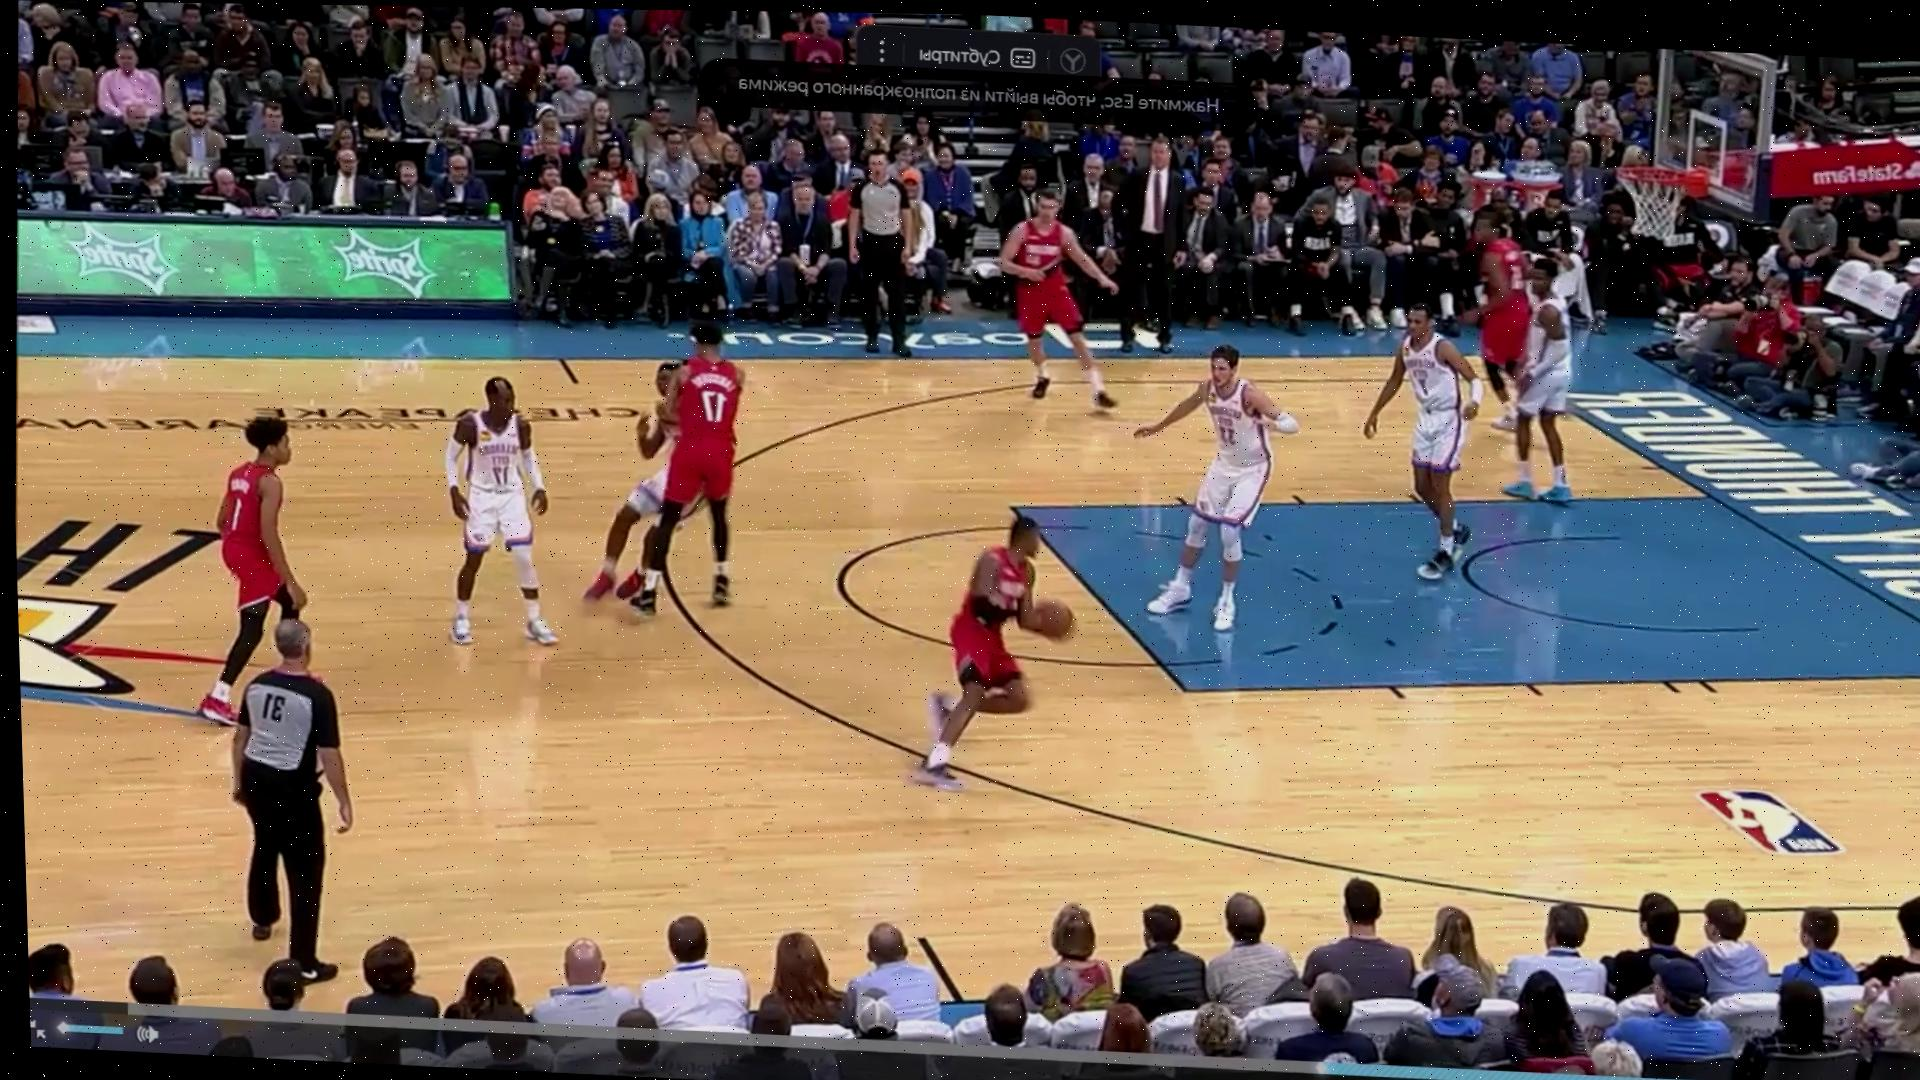foul: (567, 302, 773, 638)
